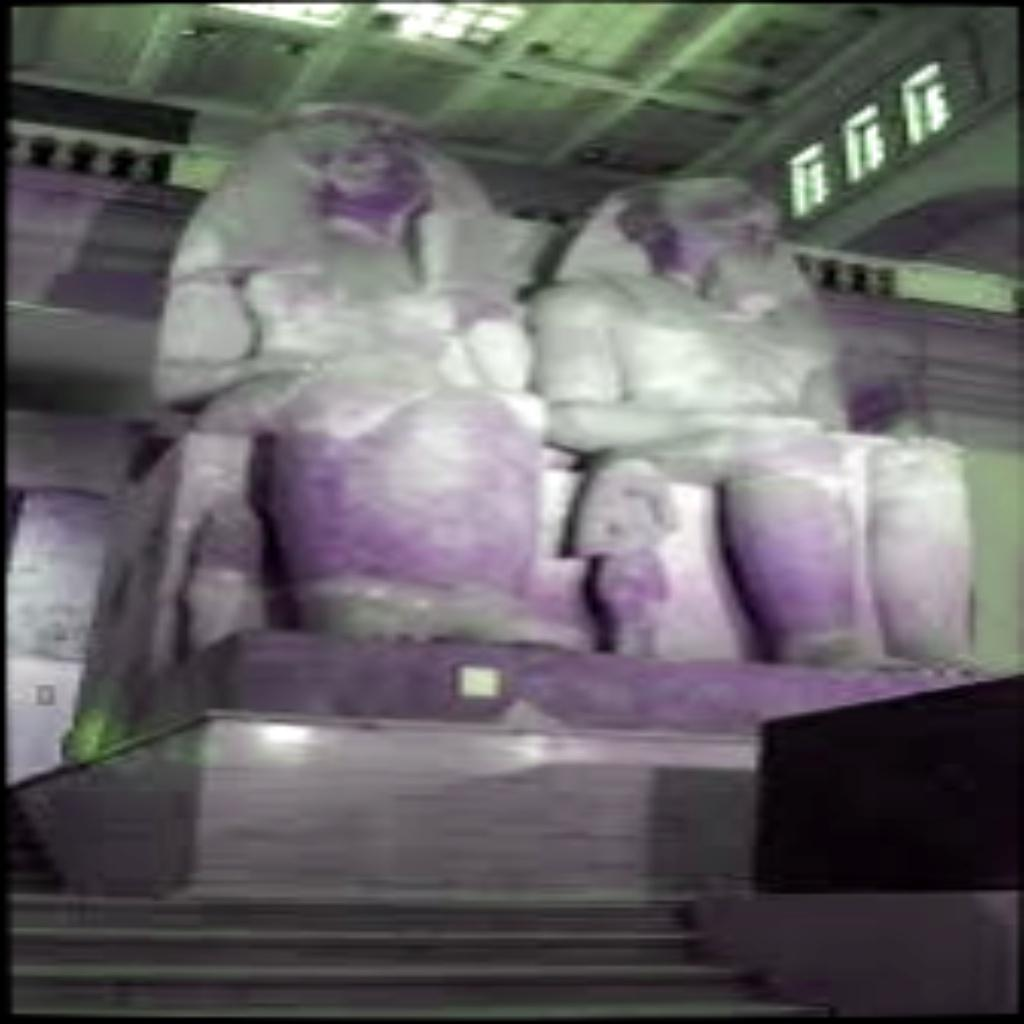Amenhotep III and Tiye: (146, 102, 1000, 674)
